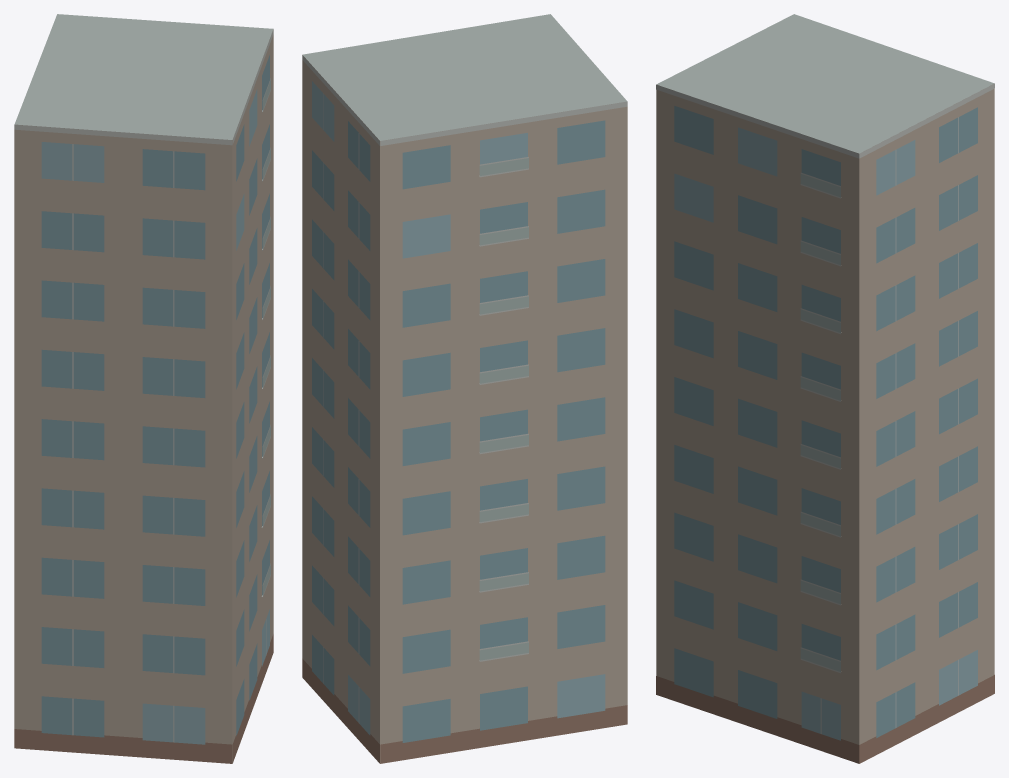
Rendered from survey-upis-33025110.glb.
3 renders of one model, left to right at view 1: azimuth 30°, elevation 25°; view 2: azimuth 150°, elevation 25°; view 3: azimuth 270°, elevation 25°, orthographic. The views are drawn at different scales.
Parts seen in each view (by area): view 1: survey-upis-33025110.tmp; view 2: survey-upis-33025110.tmp; view 3: survey-upis-33025110.tmp.
Boxes of the visible parts, box(x1,y1,x2,y2) form: survey-upis-33025110.tmp: box(14, 14, 273, 763); survey-upis-33025110.tmp: box(302, 14, 627, 763); survey-upis-33025110.tmp: box(656, 14, 994, 763).
Size of the model in its own units: 14.43 by 29.4 by 14.79.
